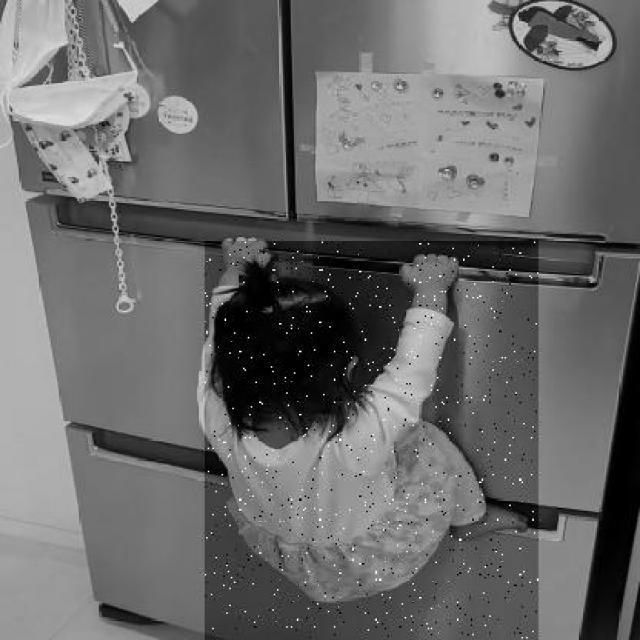child: (204, 240, 538, 640)
